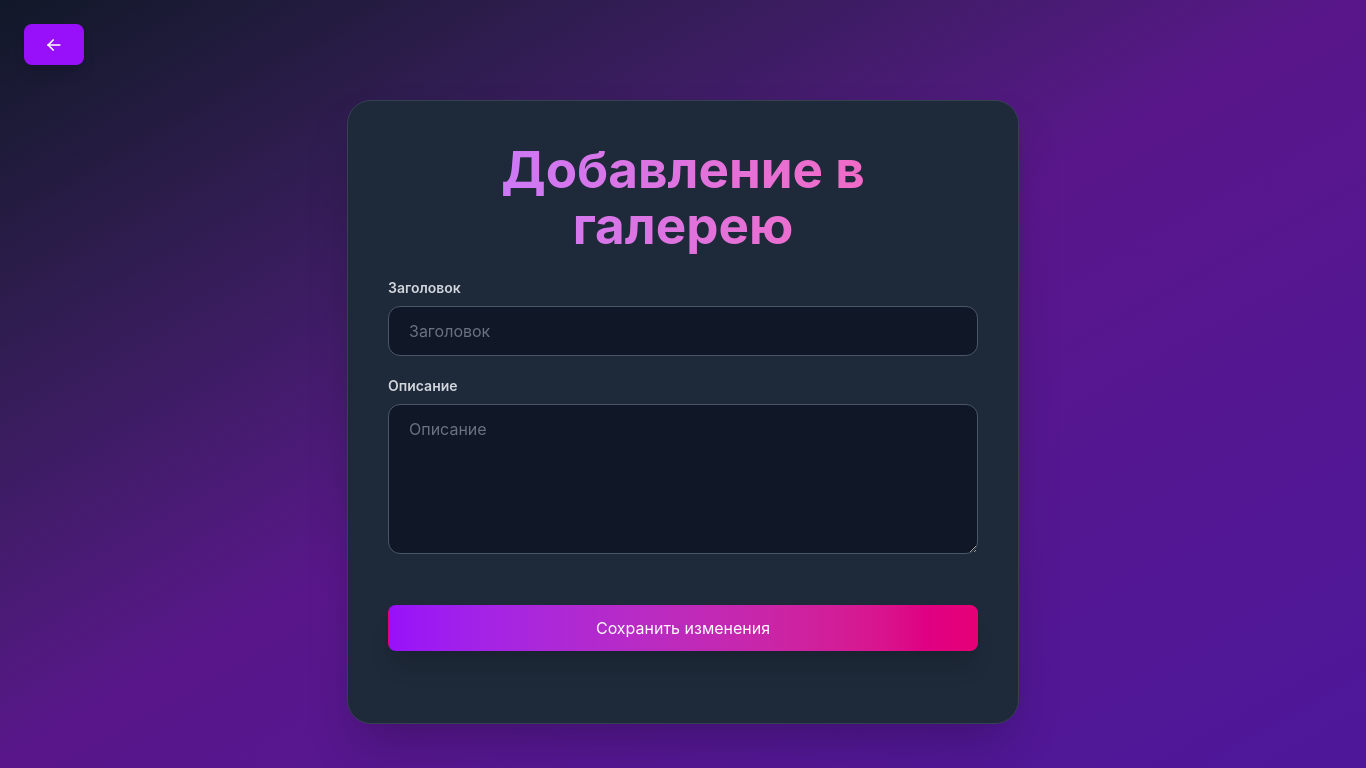
AddGallery Page Coverage (60%+) › должен показывать состояние загрузки на кнопке при отправке
In the field with placeholder "Заголовок": (683, 331) [388,306,978,356], type "Природа"
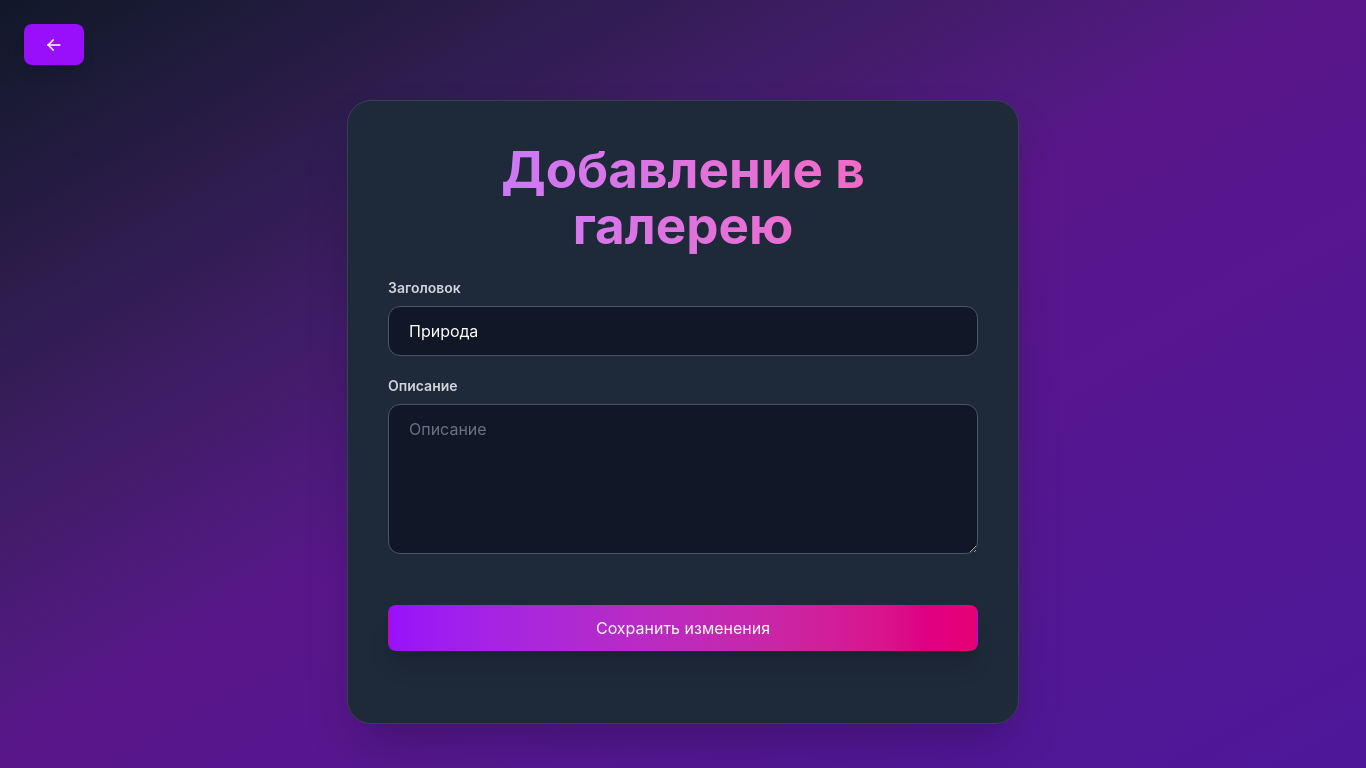
In the text box with placeholder "Описание": (683, 479) [388,404,978,554], type "Красивые пейзажи"
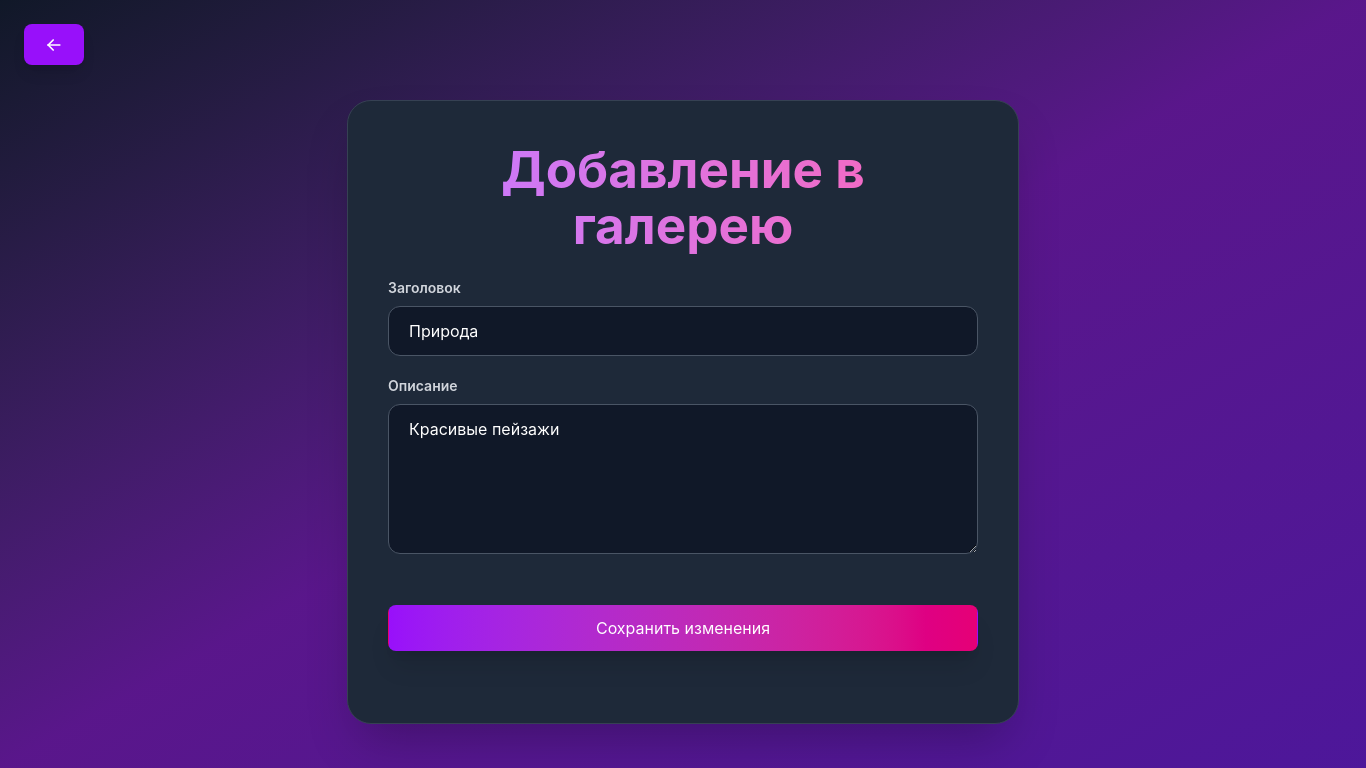
Click the button "Сохранить изменения": (683, 628) [388,605,978,651]
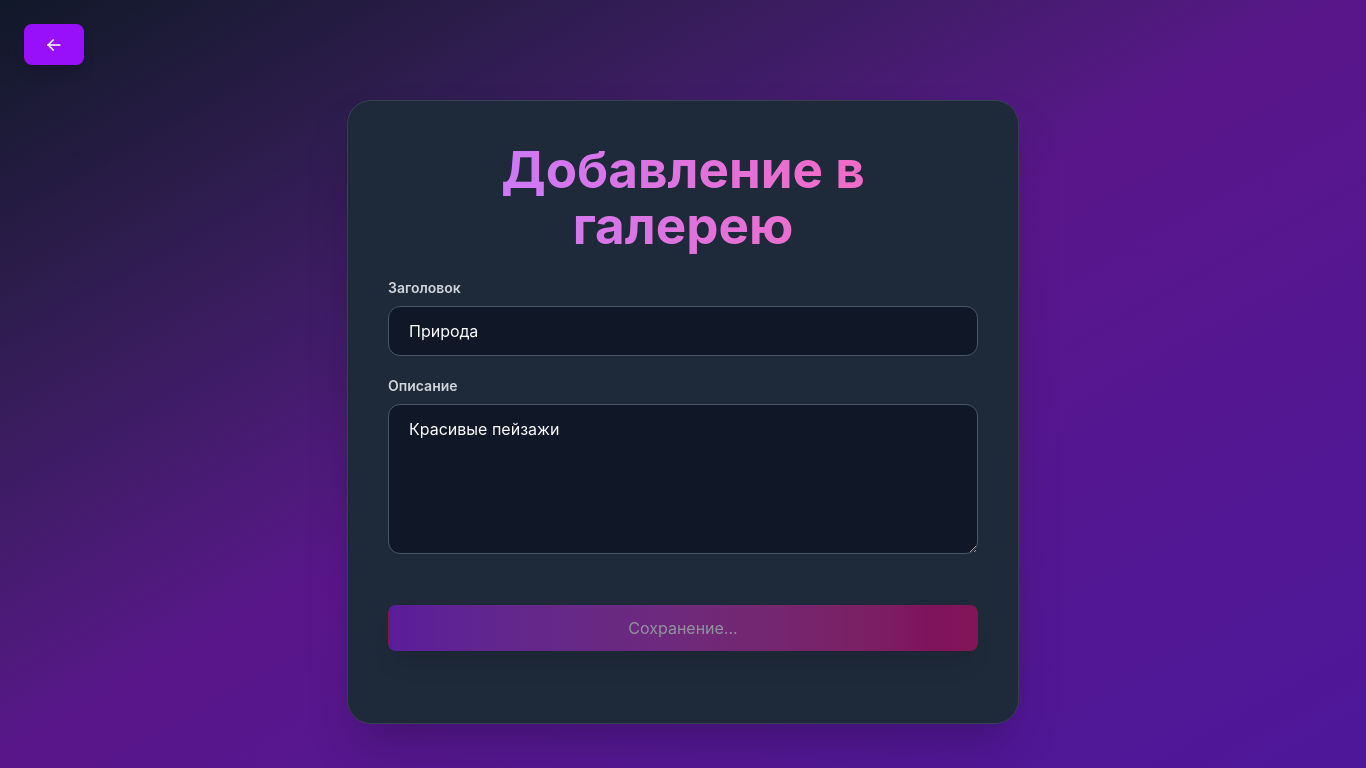
Check: the button "Сохранение..." is shown, box [388,605,978,651]
